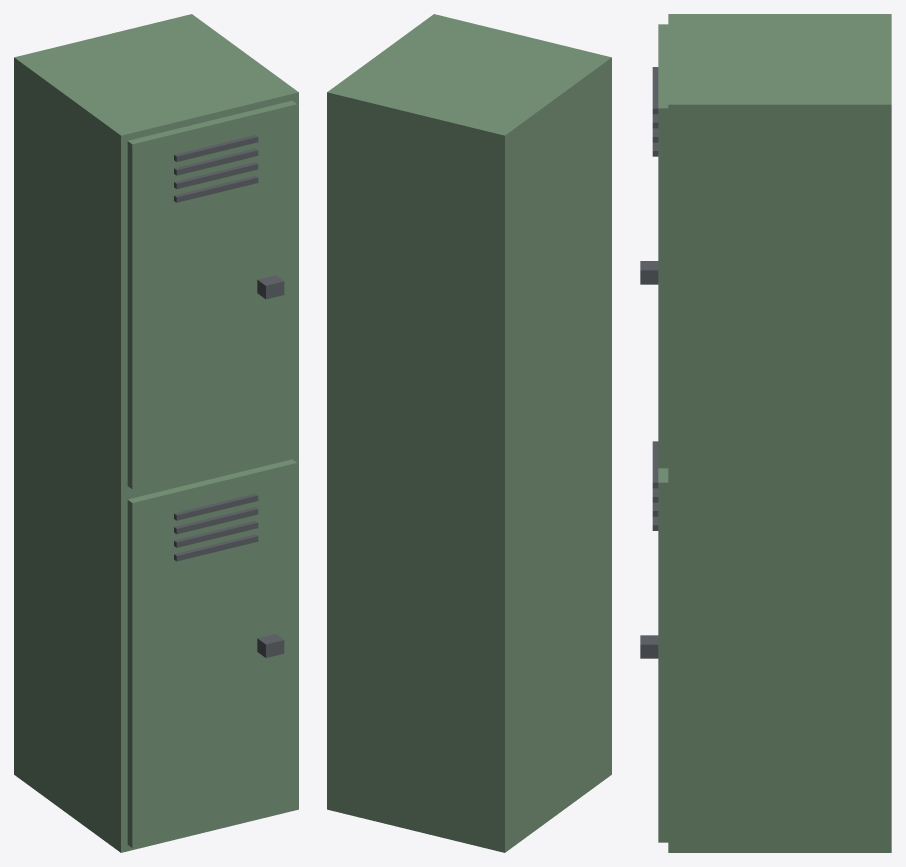
Rendered from metal_locker.glb.
3 renders of one model, left to right at view 1: azimuth 30°, elevation 25°; view 2: azimuth 150°, elevation 25°; view 3: azimuth 270°, elevation 25°, orthographic. The views are drawn at different scales.
Visible parts, largest first — view 1: body_1, panel_2, panel_8, vent_6, vent_4, vent_7, vent_5, vent_10, vent_11, vent_12, vent_13, handle_9 (+1 smaller); view 2: body_1; view 3: body_1, panel_8, panel_2.
Part boxes in pixels (bbox=[...]): body_1: bbox=[14, 14, 298, 852]; panel_2: bbox=[127, 459, 297, 847]; panel_8: bbox=[127, 100, 297, 489]; vent_6: bbox=[174, 507, 258, 534]; vent_4: bbox=[174, 534, 258, 561]; vent_7: bbox=[174, 493, 258, 520]; vent_5: bbox=[174, 520, 258, 547]; vent_10: bbox=[174, 175, 258, 202]; vent_11: bbox=[174, 162, 258, 188]; vent_12: bbox=[174, 148, 258, 175]; vent_13: bbox=[174, 135, 258, 161]; handle_9: bbox=[257, 275, 284, 299]; body_1: bbox=[327, 14, 611, 852]; body_1: bbox=[668, 14, 891, 852]; panel_8: bbox=[658, 24, 668, 468]; panel_2: bbox=[658, 468, 668, 842].
Size of the model in its own units: 0.48 by 1.85 by 0.5625.
